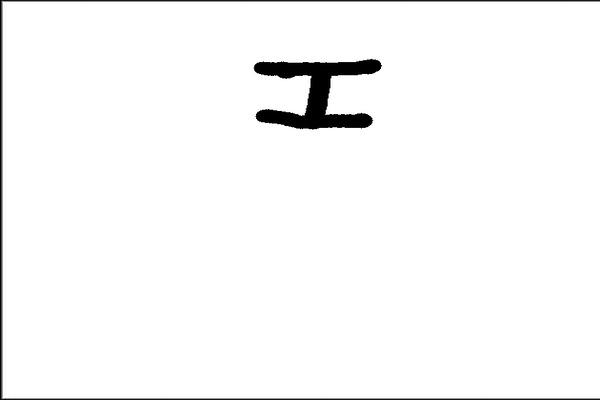i: (248, 45, 383, 137)
